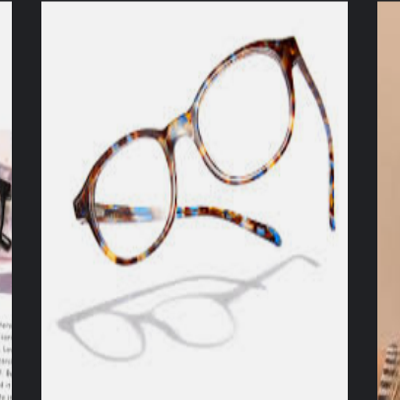glasses: (72, 32, 338, 266)
